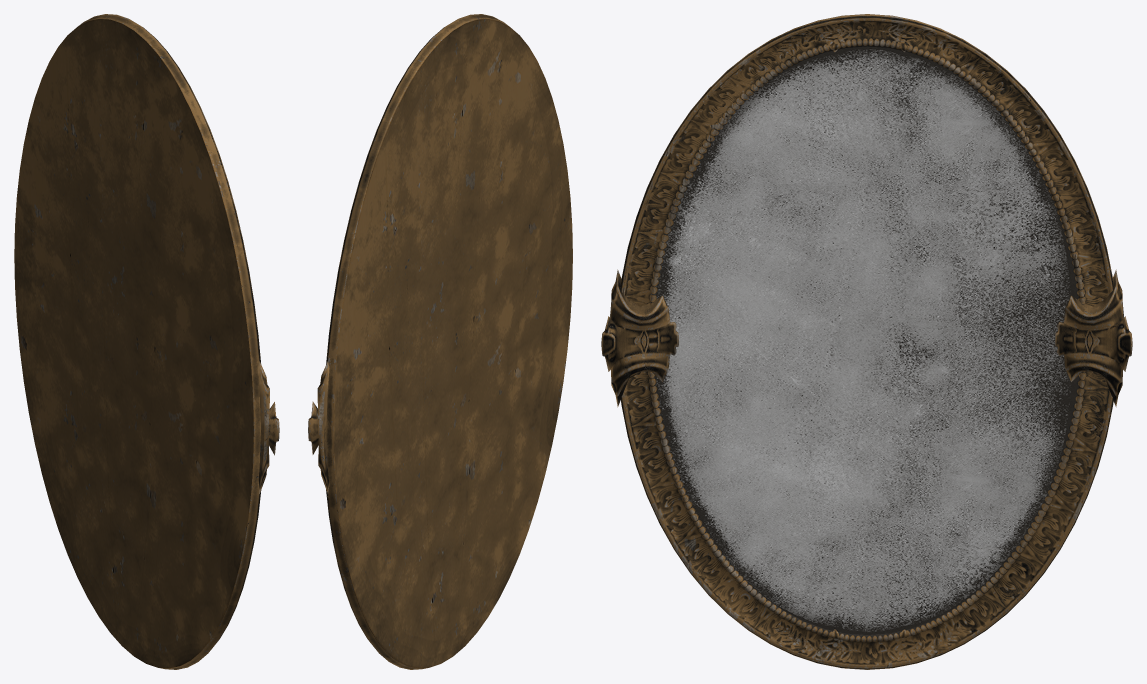
The model's file is SM_MirrorB.FBX.
3 renders of one model, left to right at view 1: azimuth 30°, elevation 25°; view 2: azimuth 150°, elevation 25°; view 3: azimuth 270°, elevation 25°, orthographic. The views are drawn at different scales.
Visible parts, largest first — view 1: SM_MirrorB_LOD0; view 2: SM_MirrorB_LOD0; view 3: SM_MirrorB_LOD0.
Boxes of the visible parts, box(x1,y1,x2,y2) form: SM_MirrorB_LOD0: box(14, 14, 279, 669); SM_MirrorB_LOD0: box(308, 14, 572, 669); SM_MirrorB_LOD0: box(601, 14, 1132, 669).
Size of what is drawn, in the model's own units: 2.64 by 90.44 by 66.45.
